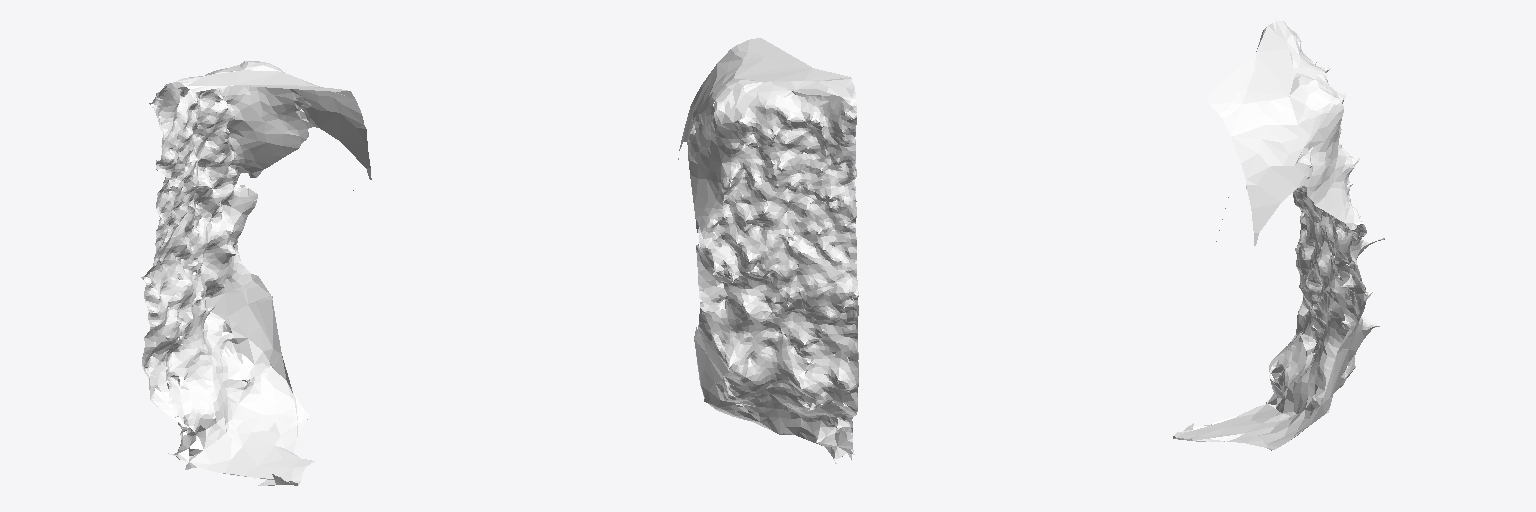
Rendered from tile_7_7.obj.
3 renders of one model, left to right at view 1: azimuth 30°, elevation 25°; view 2: azimuth 150°, elevation 25°; view 3: azimuth 270°, elevation 25°, orthographic.
Visible parts, largest first — view 1: texture_0; view 2: texture_0; view 3: texture_0.
Boxes of the visible parts, box(x1,y1,x2,y2) form: texture_0: box(141, 61, 371, 485); texture_0: box(678, 38, 858, 463); texture_0: box(1173, 21, 1385, 450).
Size of the model in its own units: 0.3846 by 0.6998 by 0.3468.